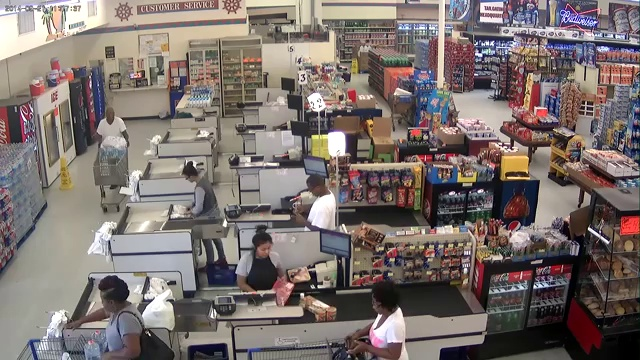face: (372, 291, 387, 314), (100, 288, 115, 310), (256, 240, 271, 258), (306, 181, 318, 195), (104, 108, 115, 120)
